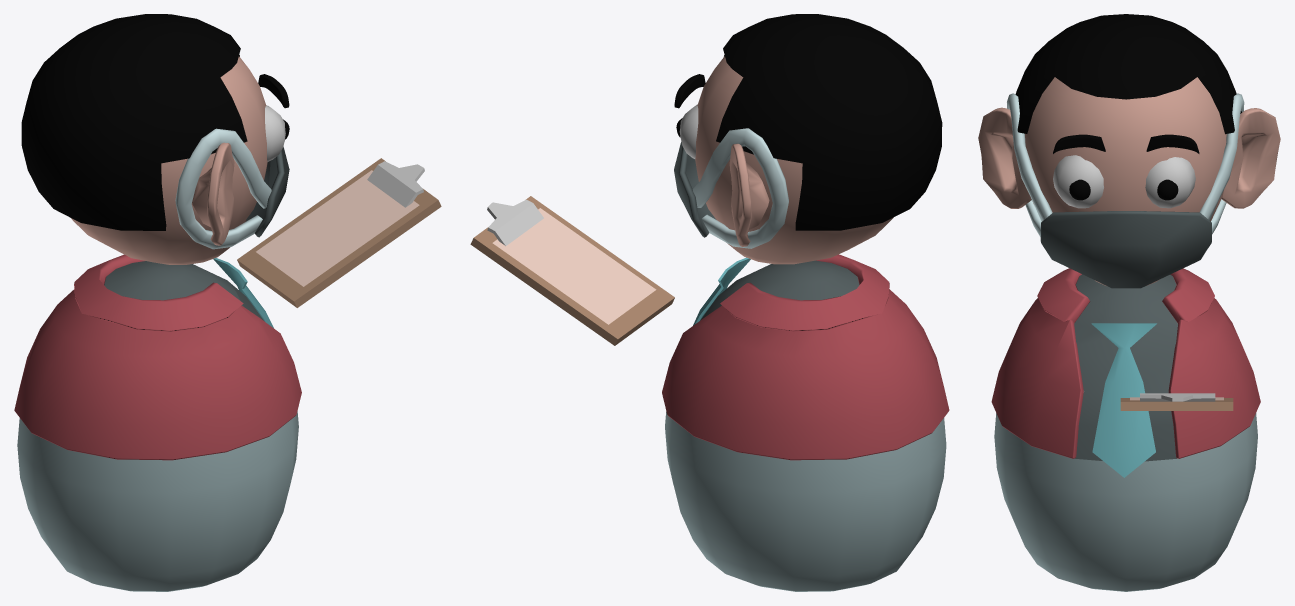
Rendered from SM_medMan.fbx.
3 renders of one model, left to right at view 1: azimuth 30°, elevation 25°; view 2: azimuth 150°, elevation 25°; view 3: azimuth 270°, elevation 25°, orthographic.
Parts seen in each view (by area): view 1: medMan; view 2: medMan; view 3: medMan.
Boxes of the visible parts, x1,y1,x2,y2 form: medMan: (14,14,441,591); medMan: (470,14,949,591); medMan: (978,14,1280,591).
Size of the model in its own units: 139 by 169 by 88.87.
